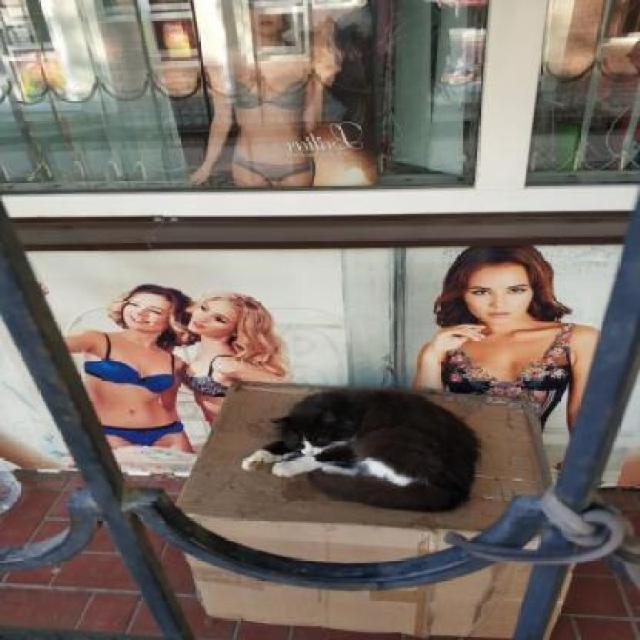cat: (226, 388, 472, 518)
